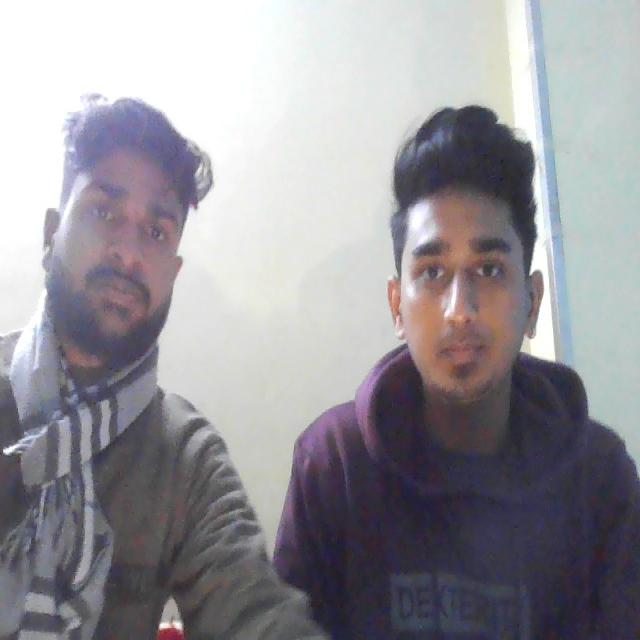real: (381, 111, 550, 429), (40, 83, 191, 368)
